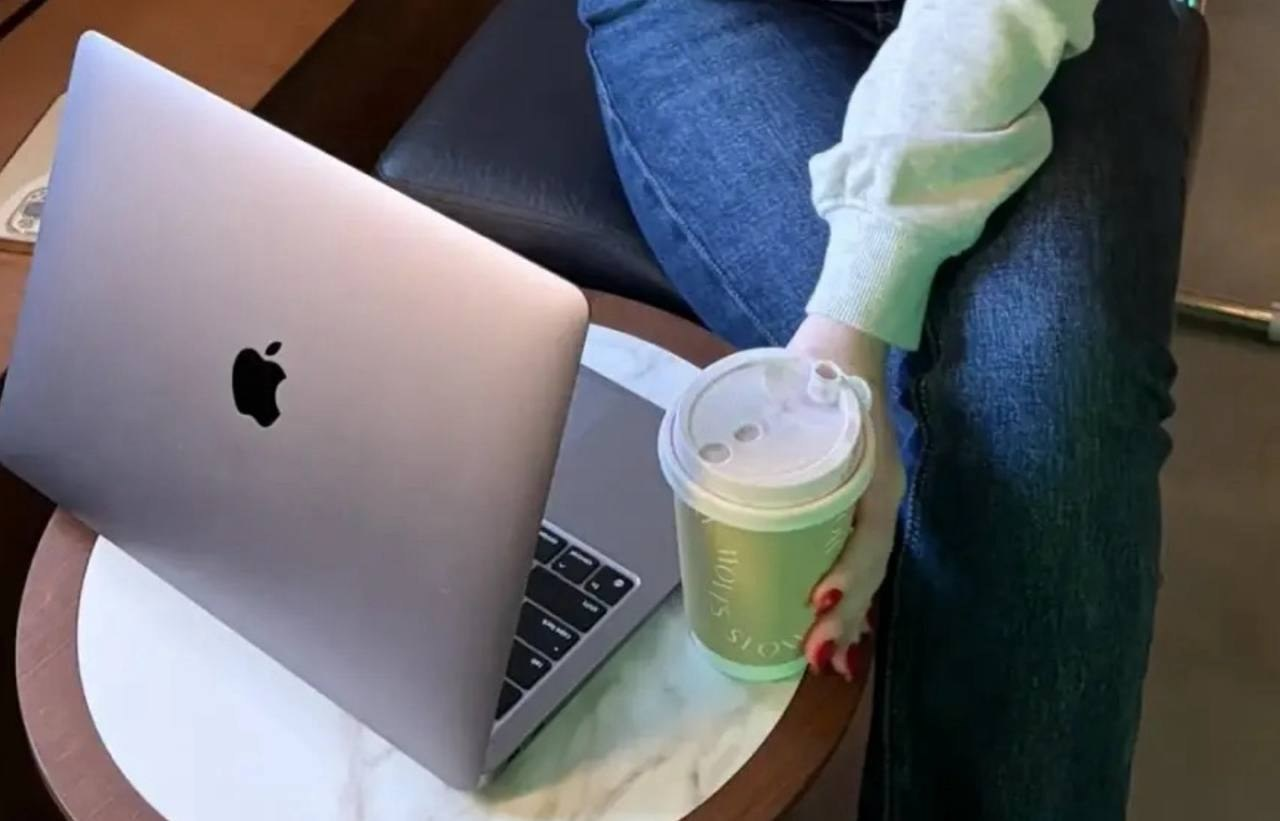laptop: (1, 29, 684, 791)
